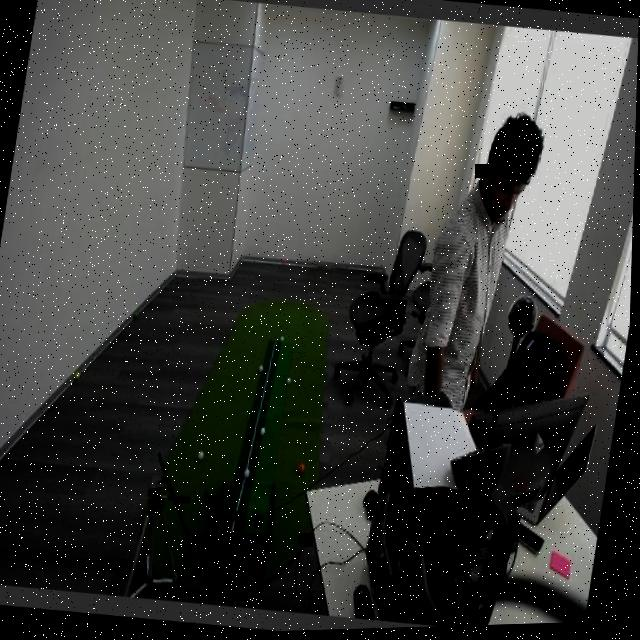GolfBall: (239, 460, 259, 489), (193, 447, 210, 471), (258, 423, 273, 442), (297, 462, 312, 481), (73, 366, 85, 386), (257, 361, 270, 379), (283, 375, 298, 390), (277, 333, 291, 348), (131, 310, 143, 323)
